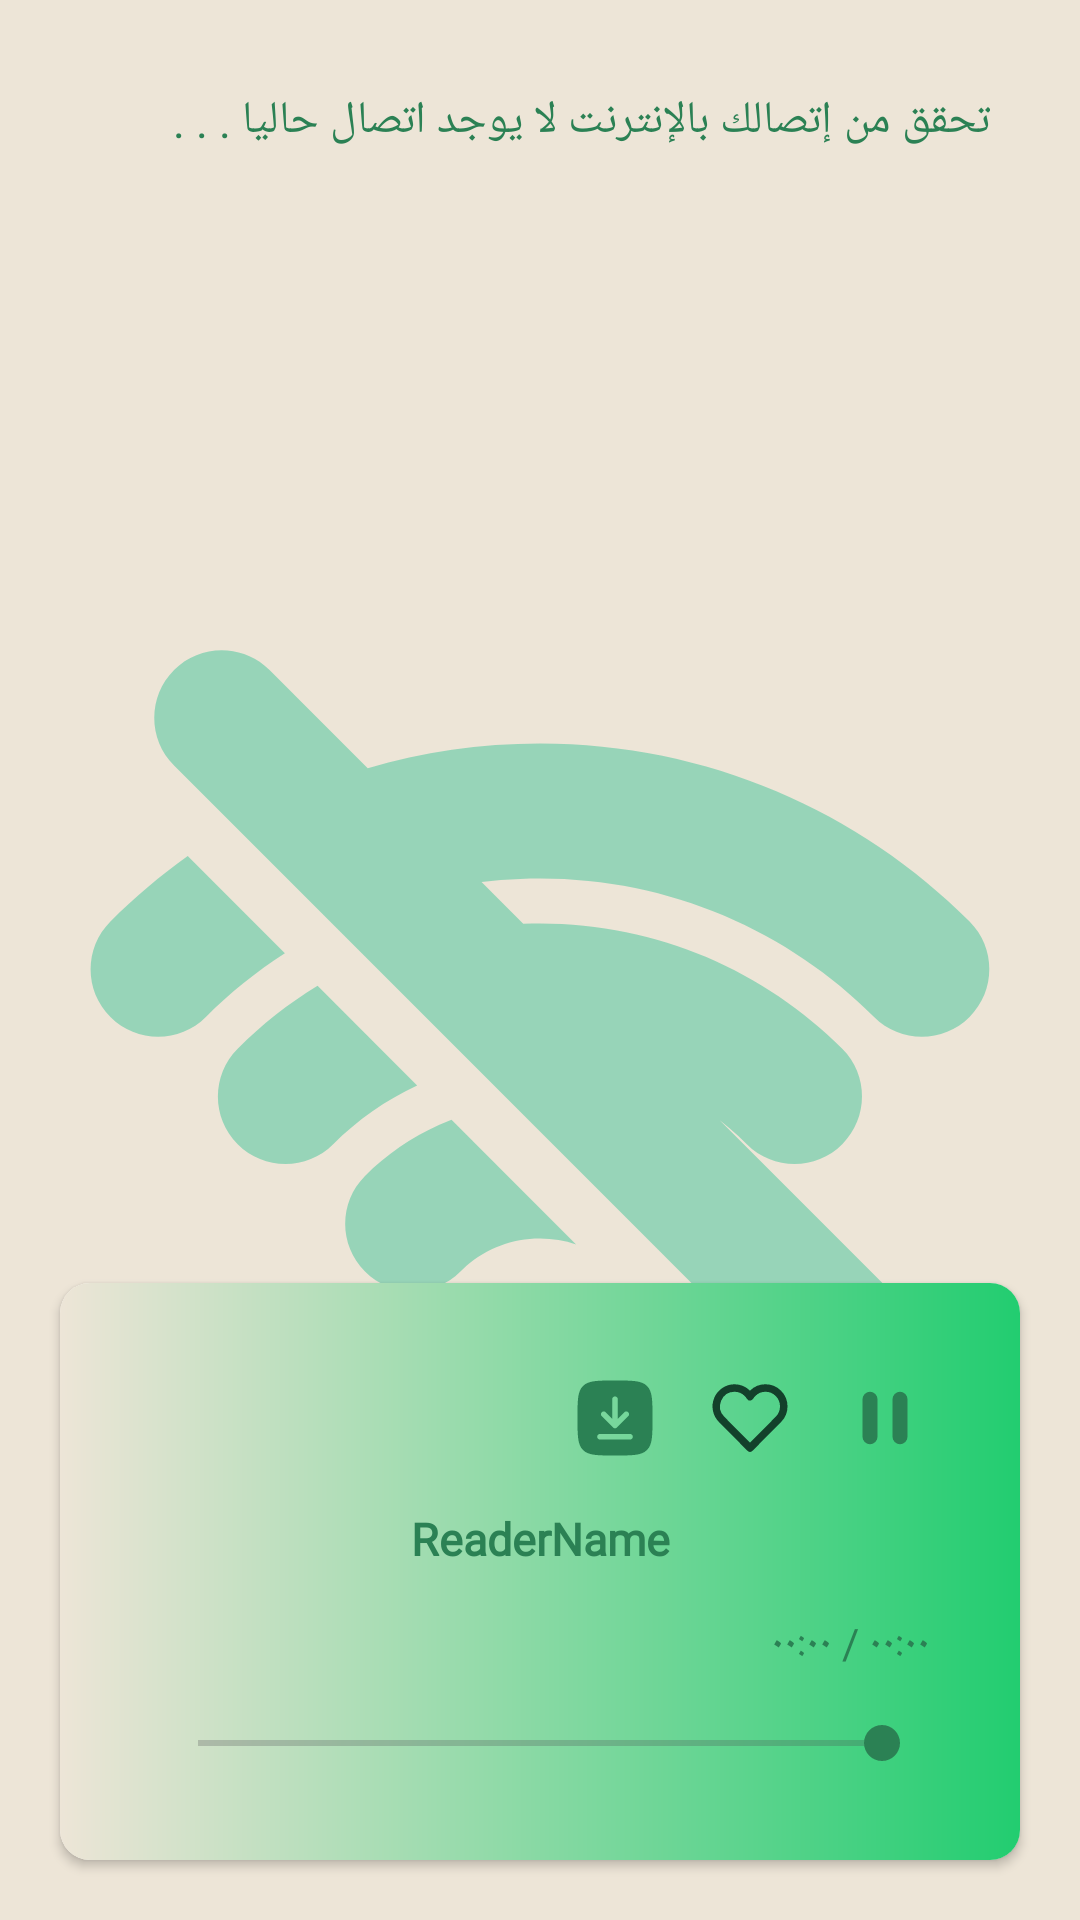

Screen size 1080×1920. Icon name, then its box in pixels as Rect(x1, y1, x2, y2):
download: Rect(577, 1380, 653, 1456)
fav out: Rect(712, 1384, 788, 1452)
pause: Rect(862, 1392, 908, 1444)
